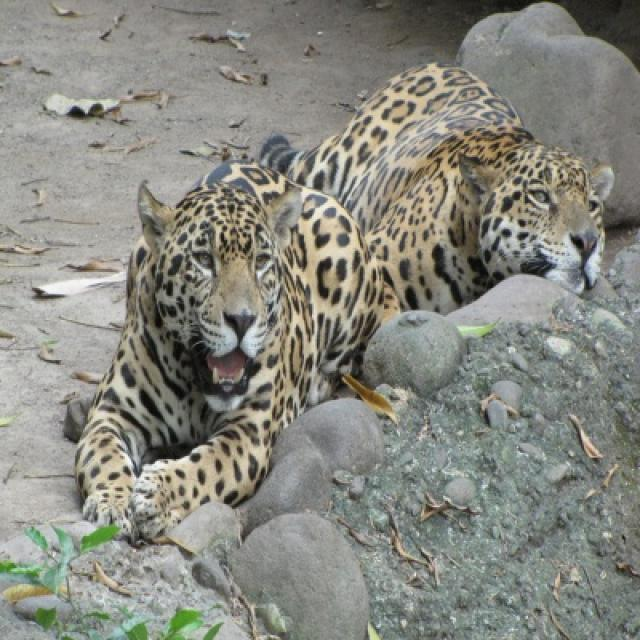Jaguar: (76, 156, 377, 530), (261, 62, 611, 313)
